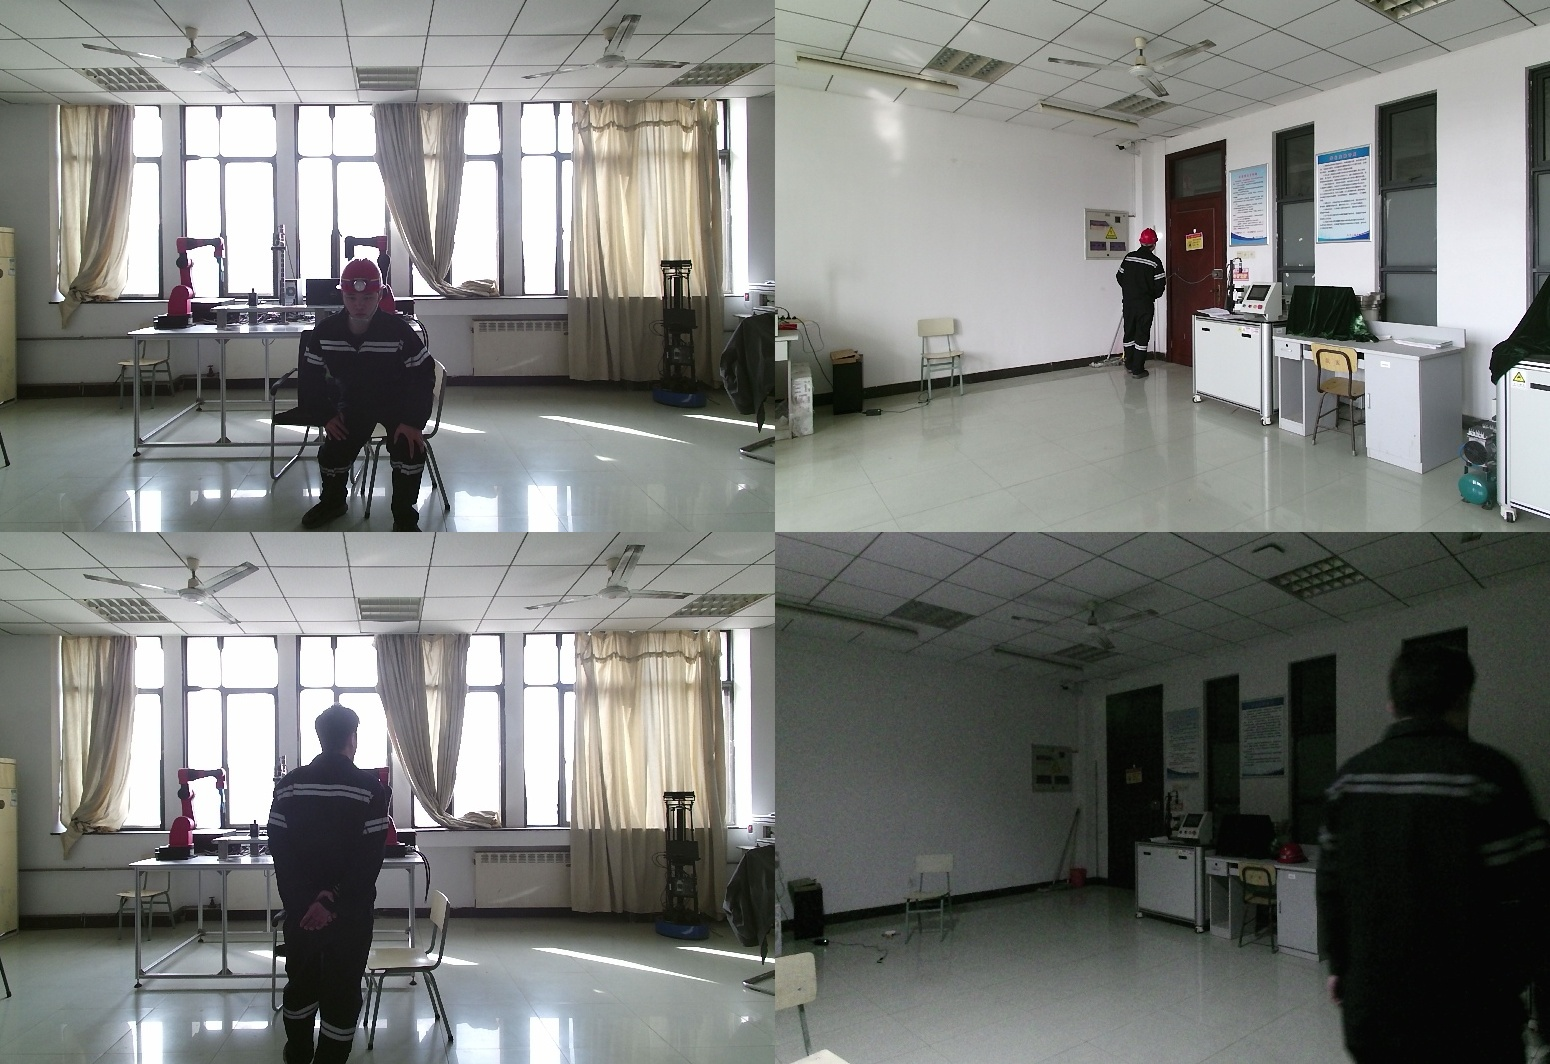person: (1322, 631, 1550, 1064), (265, 705, 413, 1064), (301, 259, 453, 532), (1114, 229, 1171, 382)
